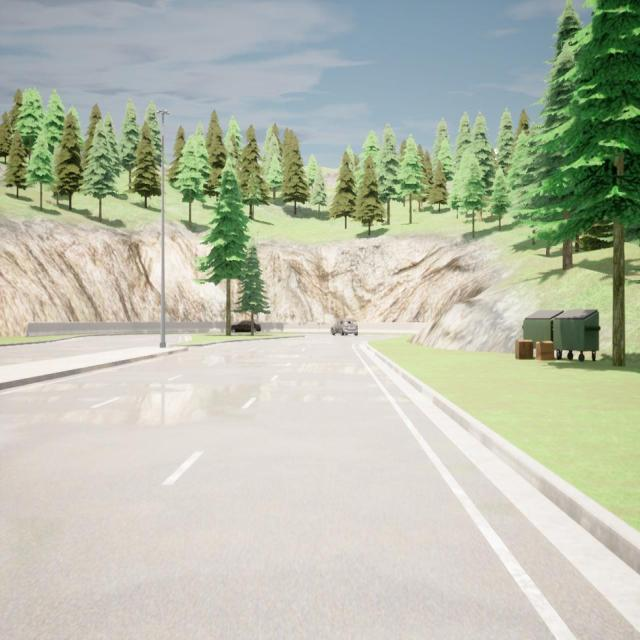Vehicle: (331, 320, 358, 336), (231, 320, 261, 334)
